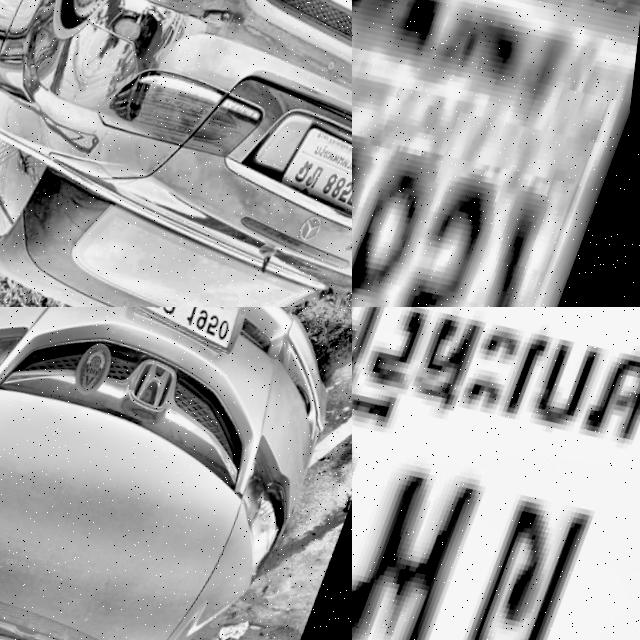license-plate: (352, 307, 640, 640), (352, 0, 640, 307), (115, 307, 270, 369), (283, 126, 352, 228)
